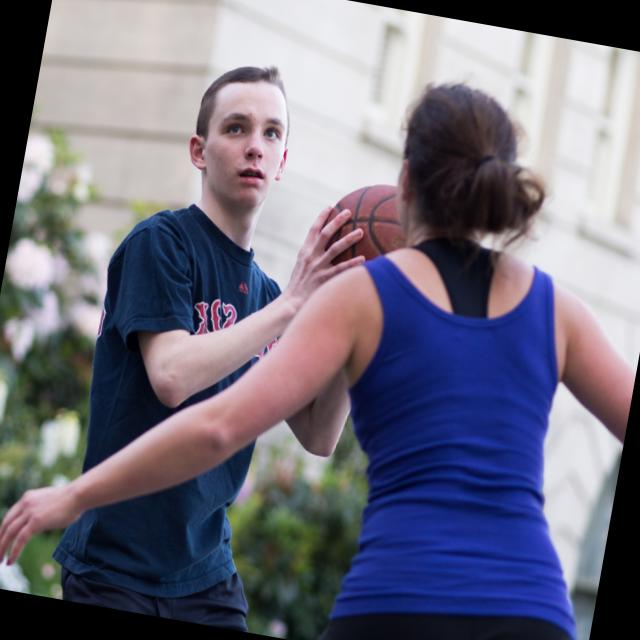Ball: (317, 174, 413, 276)
